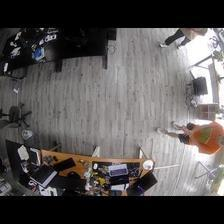normal: (154, 120, 224, 156)
